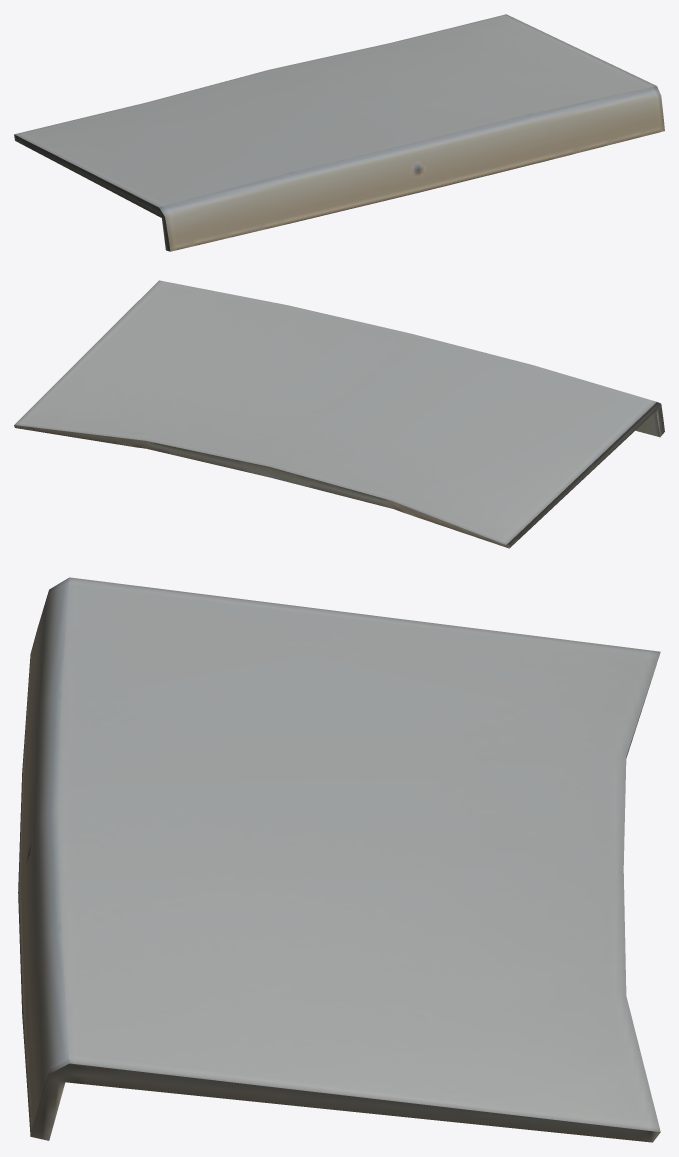
The model's file is CavalierTrunkLid_WorldItem.fbx.
3 renders of one model, top to bottom at view 1: azimuth 30°, elevation 25°; view 2: azimuth 150°, elevation 25°; view 3: azimuth 270°, elevation 25°, orthographic. The views are drawn at different scales.
Parts seen in each view (by area): view 1: Trunk_obj; view 2: Trunk_obj; view 3: Trunk_obj.
Part boxes in pixels (x1,y1,x2,y2): Trunk_obj: [14, 14, 664, 251]; Trunk_obj: [14, 280, 664, 548]; Trunk_obj: [18, 577, 660, 1142].
Size of the model in its own units: 1.69 by 0.1495 by 0.9441.
